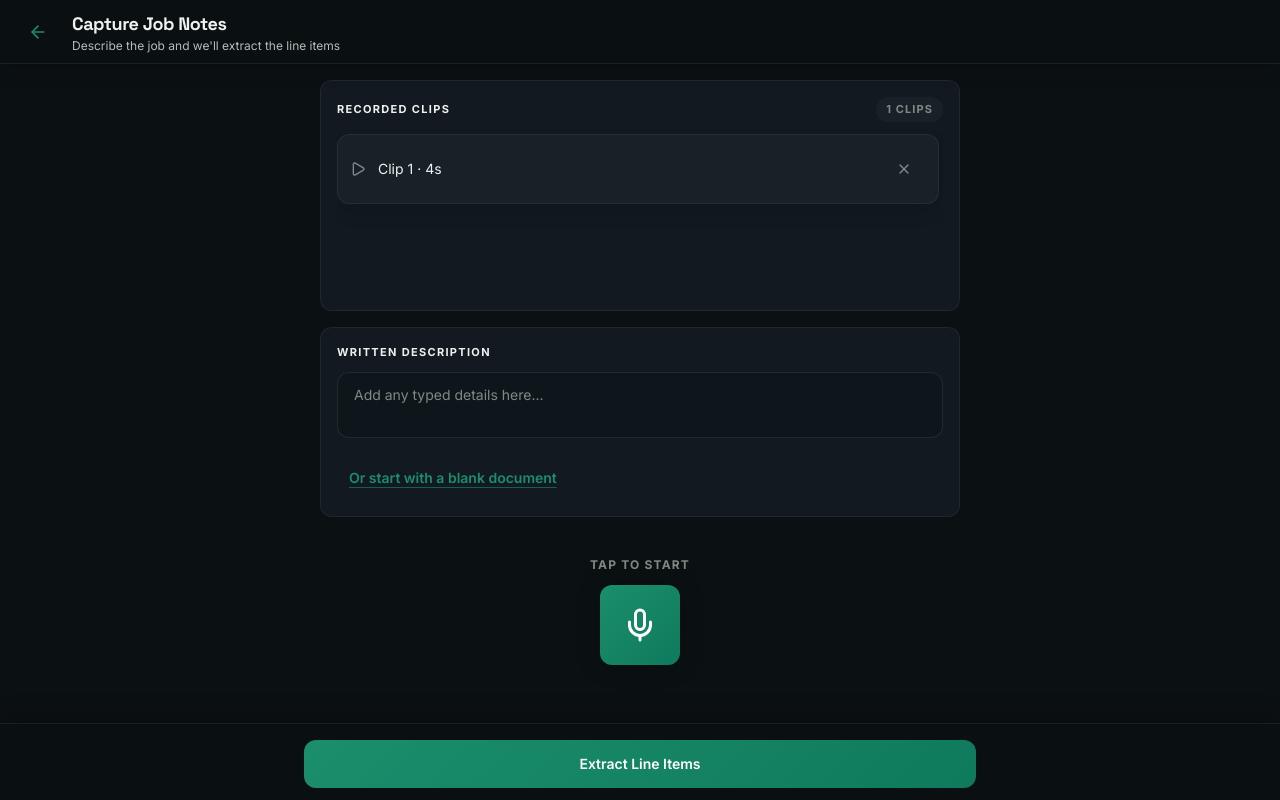
CaptureScreen › shows a leave confirmation when navigating back with unsaved clips
This screenshot has width=1280, height=800.
Click the button named "go back" at (38, 32), box [16,10,60,54]
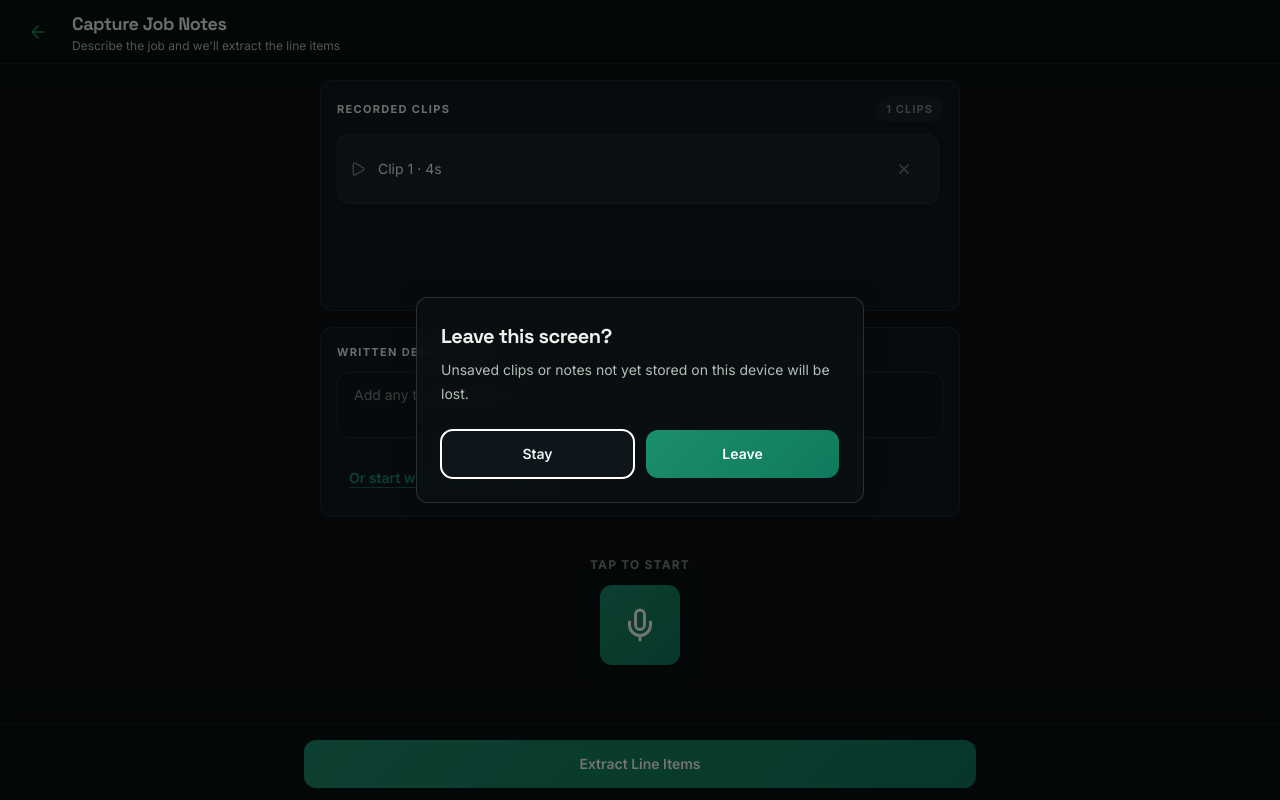
Now the dialog "Leave this screen?" is shown, box [416,297,864,503]
